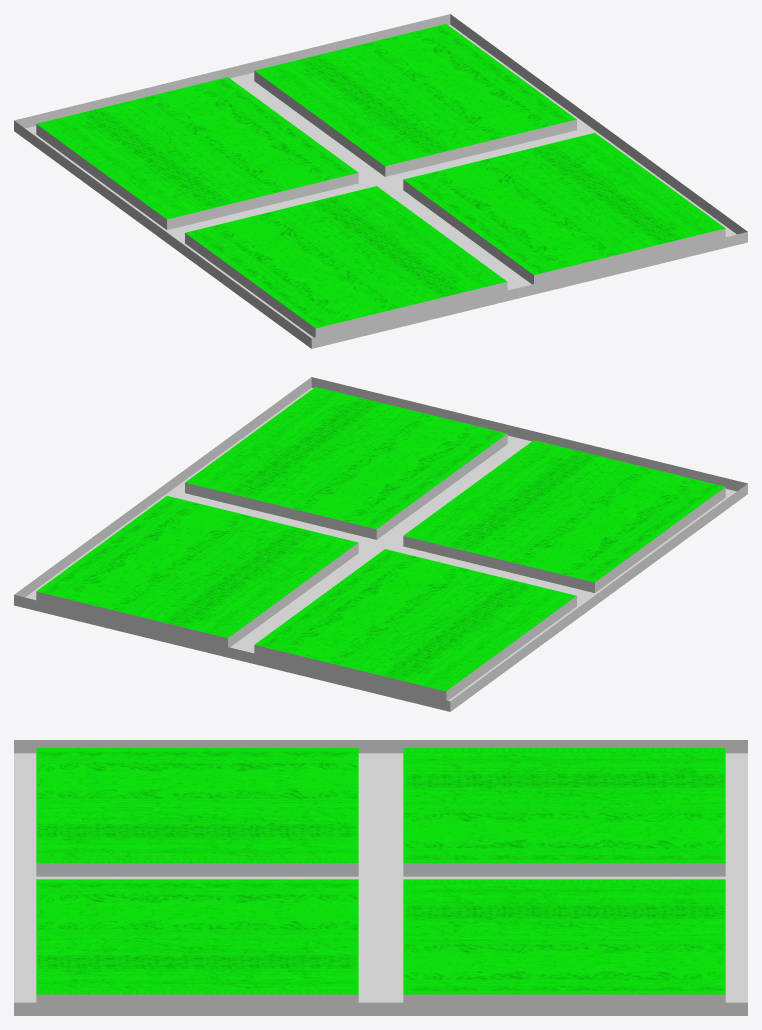
Rendered from 식량창고 천장.fbx.
3 renders of one model, top to bottom at view 1: azimuth 30°, elevation 25°; view 2: azimuth 150°, elevation 25°; view 3: azimuth 270°, elevation 25°, orthographic. The views are drawn at different scales.
Visible parts, largest first — view 1: 천장 돌 부분, 식량창고 천장; view 2: 천장 돌 부분, 식량창고 천장; view 3: 천장 돌 부분, 식량창고 천장.
Part boxes in pixels (left/top/right/bottom): 천장 돌 부분: left=36, top=24, right=725, bottom=328; 식량창고 천장: left=14, top=14, right=747, bottom=348; 천장 돌 부분: left=36, top=387, right=725, bottom=691; 식량창고 천장: left=14, top=377, right=747, bottom=711; 천장 돌 부분: left=36, top=748, right=725, bottom=994; 식량창고 천장: left=14, top=740, right=747, bottom=1015.
Bounding box in the file's own units: 268 × 6.27 × 317.
